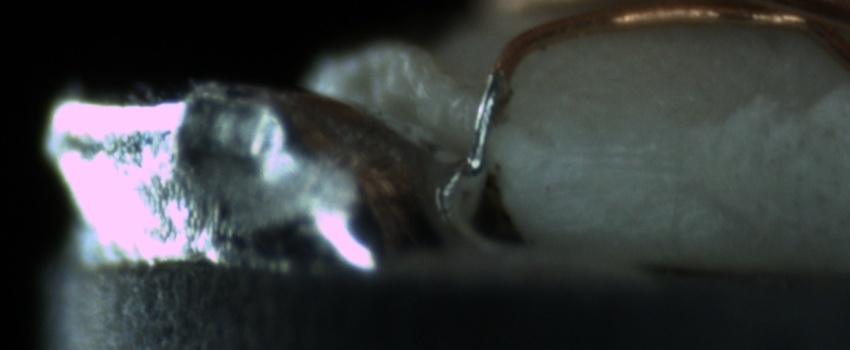DL: (527, 131, 681, 187)
TS: (466, 71, 497, 173)
